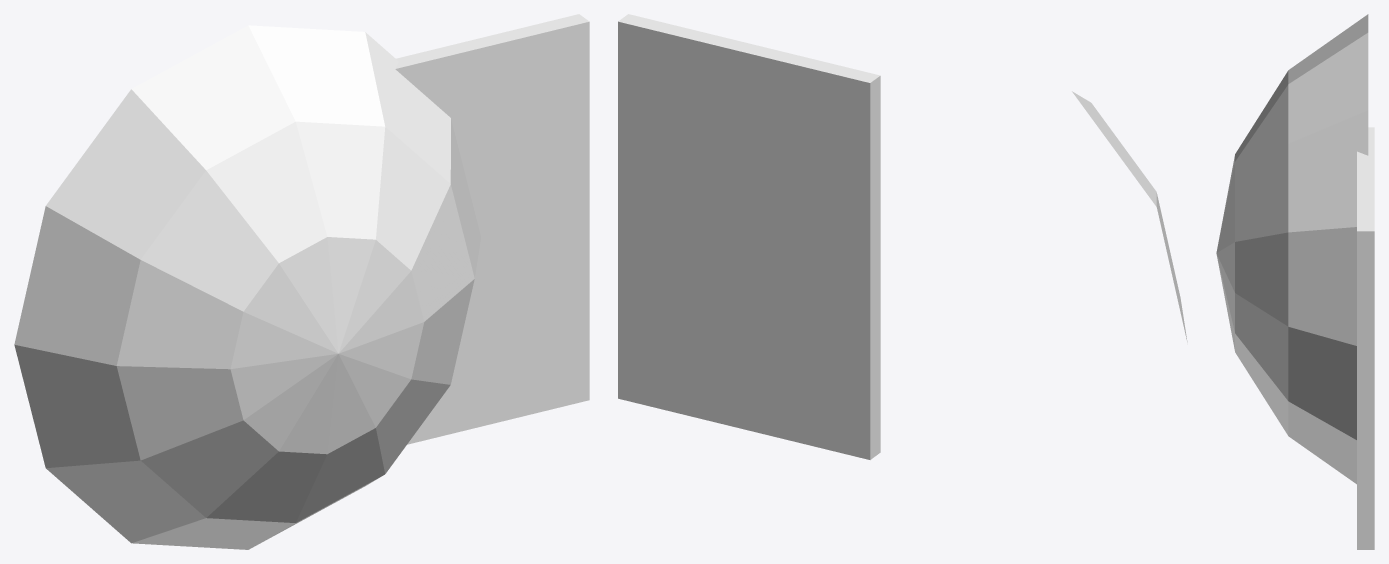
File: hat_cap.glb
The picture shows the model from 3 angles, left to right: view 1: azimuth 30°, elevation 25°; view 2: azimuth 150°, elevation 25°; view 3: azimuth 270°, elevation 25°; orthographic projection. The views are drawn at different scales.
Visible parts, largest first — view 1: hat_cap; view 2: hat_cap; view 3: hat_cap.
Part boxes in pixels (box(x1,y1,x2,y2)): hat_cap: box(14, 14, 589, 549); hat_cap: box(618, 14, 1187, 459); hat_cap: box(1216, 14, 1374, 549).
Bounding box in the file's own units: 0.6287 × 0.5543 × 0.18.
Materials: 1 (1 with a texture image).
